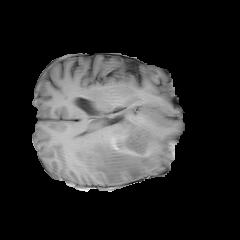glioma: (74, 115, 157, 184)
